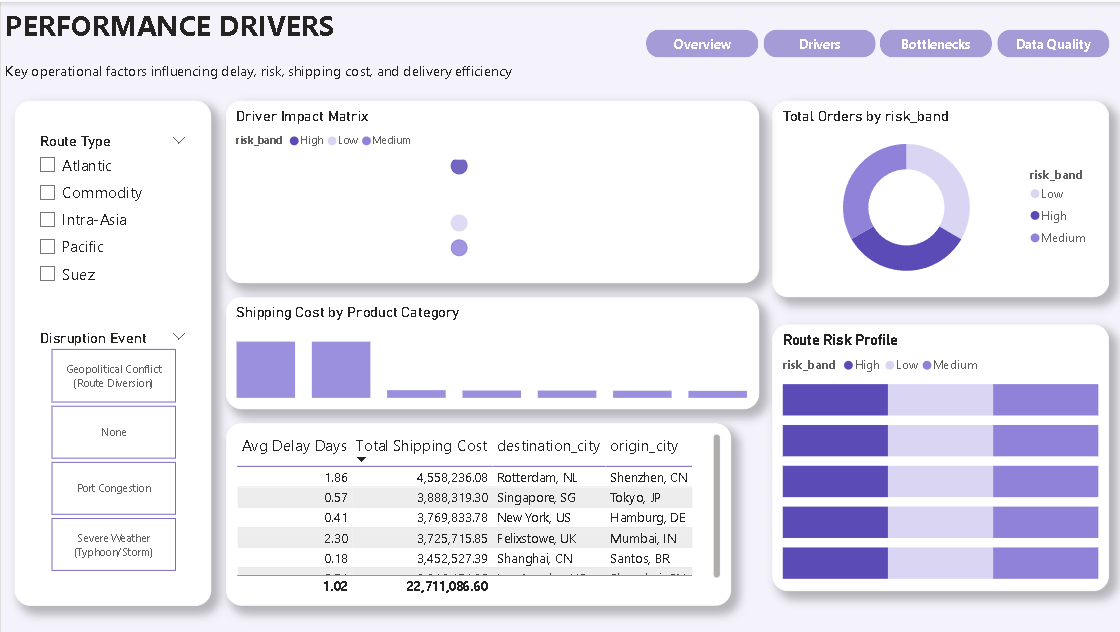

Layout of this report page (visuals, bound fields, positions):
{"tool":"powerbi","page":{"name":"Performance Drivers","canvas":[1280,720],"ordinal":1},"visuals":[{"type":"actionButton","box":[736,32,128,32],"z":0,"group":"g1"},{"type":"textbox","box":[16,112,224,576],"z":0},{"type":"actionButton","box":[1136,32,128,32],"z":1000,"group":"g1"},{"type":"slicer","fields":{"Values":["ops v_fact_operations.route_type"]},"box":[32,144,192,224],"z":1000},{"type":"actionButton","box":[1002.7,32,128,32],"z":2000,"group":"g1"},{"type":"clusteredColumnChart","title":"Shipping Cost by Product Category","fields":{"Category":["ops v_fact_operations.product_category"],"Y":["Date.Total Shipping Cost"]},"box":[256,336,608,128],"z":2000},{"type":"actionButton","box":[869.3,32,128,32],"z":3000,"group":"g1"},{"type":"slicer","fields":{"Values":["ops v_fact_operations.disruption_event"]},"box":[32,368,192,288],"z":3000},{"type":"donutChart","fields":{"Category":["ops v_fact_operations.risk_band"],"Y":["Date.Total Orders"]},"box":[880,112,384,224],"z":4000},{"type":"tableEx","fields":{"Values":["Date.Avg Delay Days","Date.Total Shipping Cost","ops v_fact_operations.destination_city","ops v_fact_operations.origin_city"]},"box":[256,480,576,208],"z":5000},{"type":"textbox","box":[0,0,1280,96],"z":6000},{"type":"group","id":"g1","title":"Group 1","box":[736,32,528,32],"z":7000},{"type":"scatterChart","title":"Driver Impact Matrix","fields":{"X":["DQ Metrics.Avg Delay Days Clean"],"Series":["ops v_fact_operations.risk_band"],"Y":["Date.Total Shipping Cost"],"Size":["Date.Total Orders"]},"box":[256,112,608,208],"z":8000},{"type":"barChart","title":"Route Risk Profile","fields":{"Category":["ops v_driver_breakdown.route_type"],"Y":["Date.Total Orders"],"Series":["ops v_driver_breakdown.risk_band"]},"box":[880,368,384,304],"z":9000}]}

Visuals, with their boxes in screenshot pixels (x1, y1, x2, y2), scaled from the page's 1280x720 canvas onto the 1120x632 screenshot:
actionButton: (x1=644, y1=28, x2=756, y2=56)
textbox: (x1=14, y1=98, x2=210, y2=604)
actionButton: (x1=994, y1=28, x2=1106, y2=56)
slicer - ops v_fact_operations.route_type: (x1=28, y1=126, x2=196, y2=323)
actionButton: (x1=877, y1=28, x2=989, y2=56)
"Shipping Cost by Product Category" clusteredColumnChart: (x1=224, y1=295, x2=756, y2=407)
actionButton: (x1=761, y1=28, x2=873, y2=56)
slicer - ops v_fact_operations.disruption_event: (x1=28, y1=323, x2=196, y2=576)
donutChart - ops v_fact_operations.risk_band x Date.Total Orders: (x1=770, y1=98, x2=1106, y2=295)
tableEx - Date.Avg Delay Days x Date.Total Shipping Cost: (x1=224, y1=421, x2=728, y2=604)
textbox: (x1=0, y1=0, x2=1119, y2=84)
"Group 1" group: (x1=644, y1=28, x2=1106, y2=56)
"Driver Impact Matrix" scatterChart: (x1=224, y1=98, x2=756, y2=281)
"Route Risk Profile" barChart: (x1=770, y1=323, x2=1106, y2=590)
